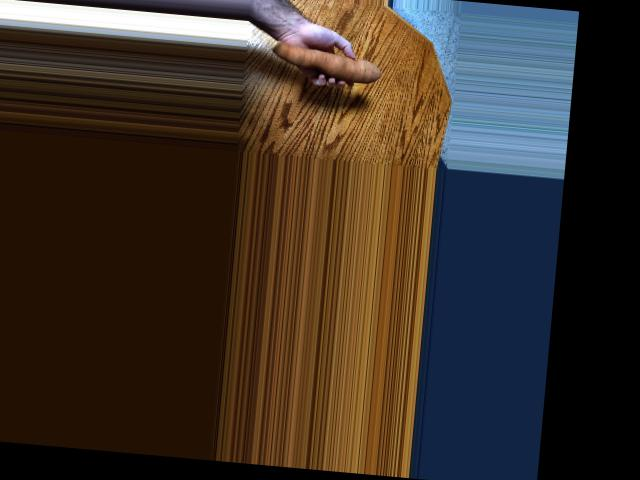sweet_potato: (275, 40, 383, 92)
